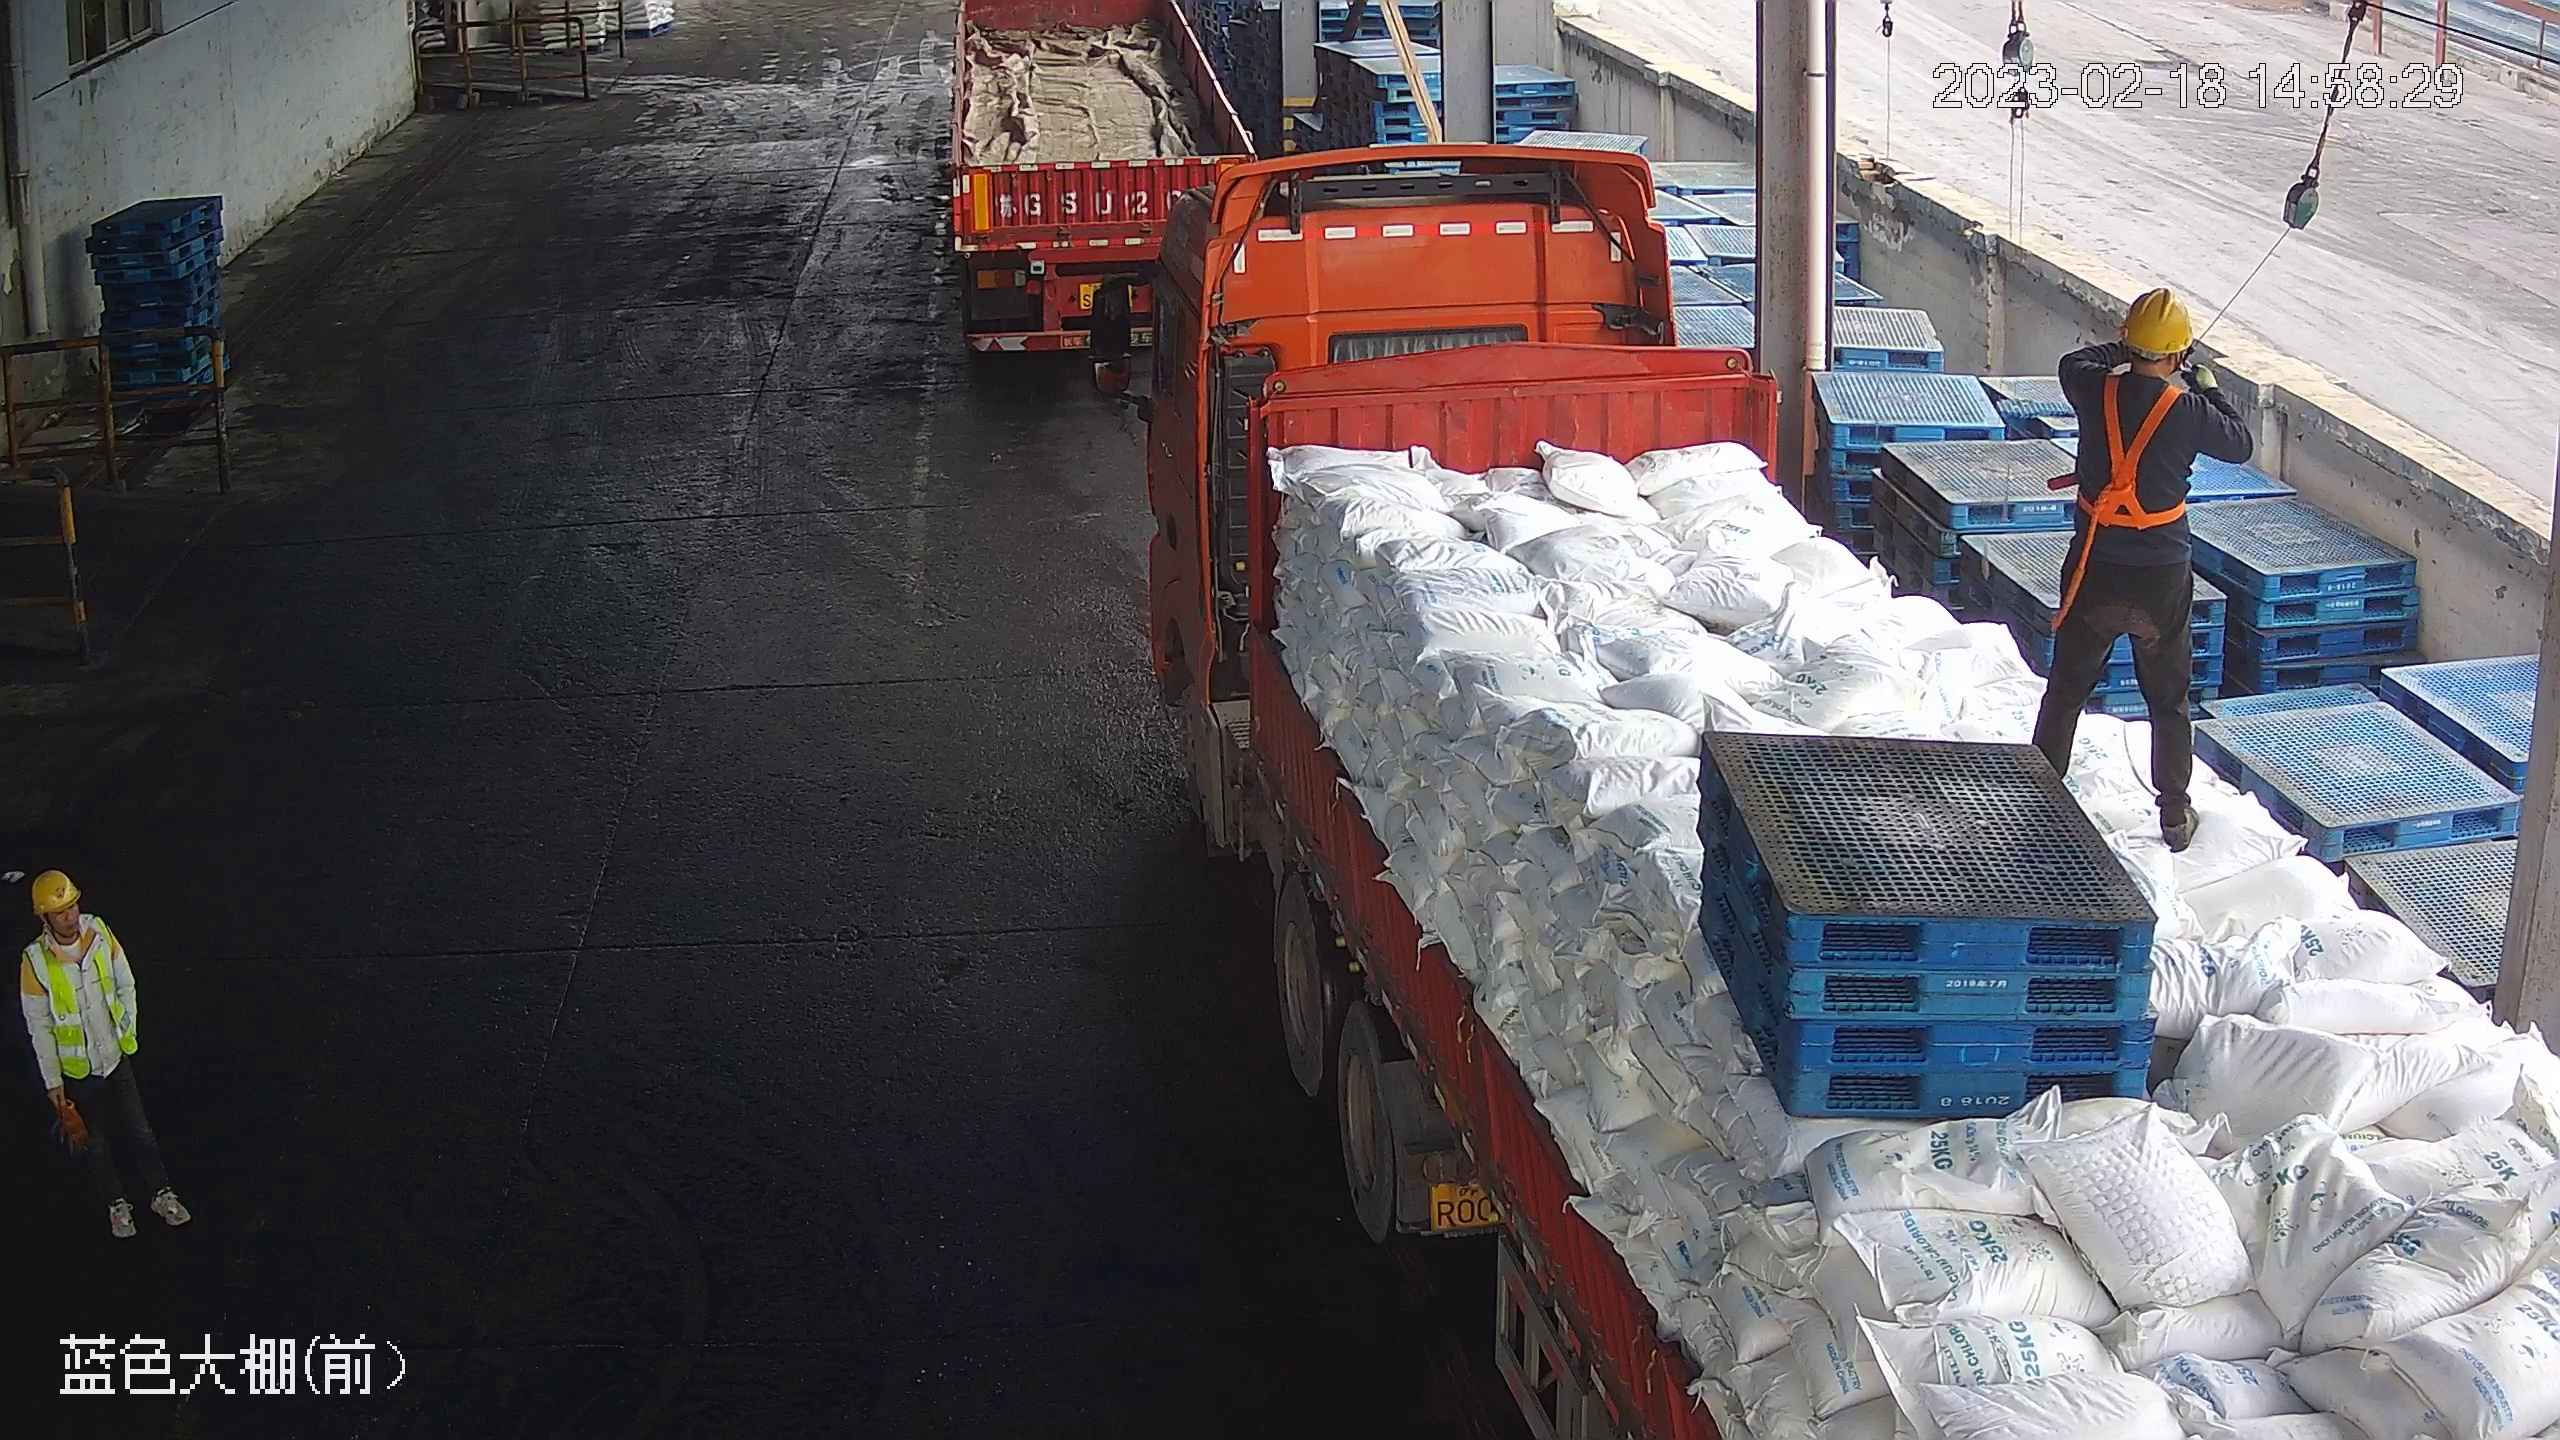belt: (2074, 360, 2201, 531)
head: (2067, 281, 2234, 441), (16, 867, 125, 985)
helmet: (2118, 282, 2195, 353), (23, 867, 78, 914)
people: (2017, 281, 2252, 845), (10, 862, 182, 1253)
truck: (1097, 156, 2556, 1440), (933, 1, 1254, 354)
